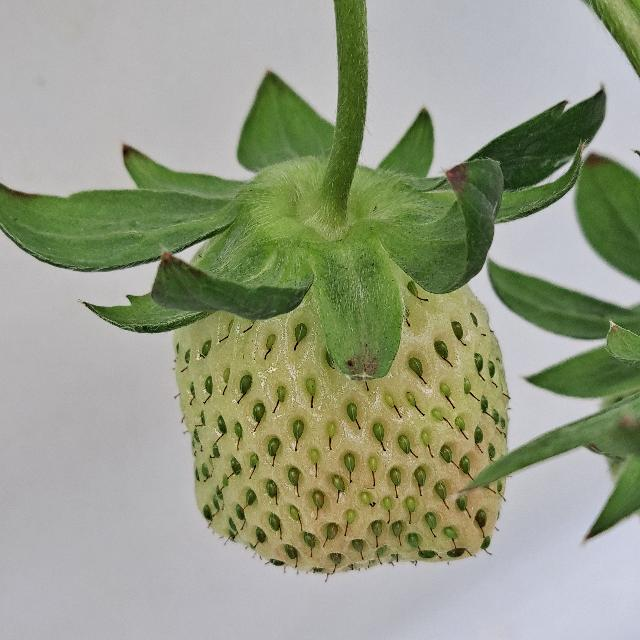Health_25: (173, 284, 509, 574)
